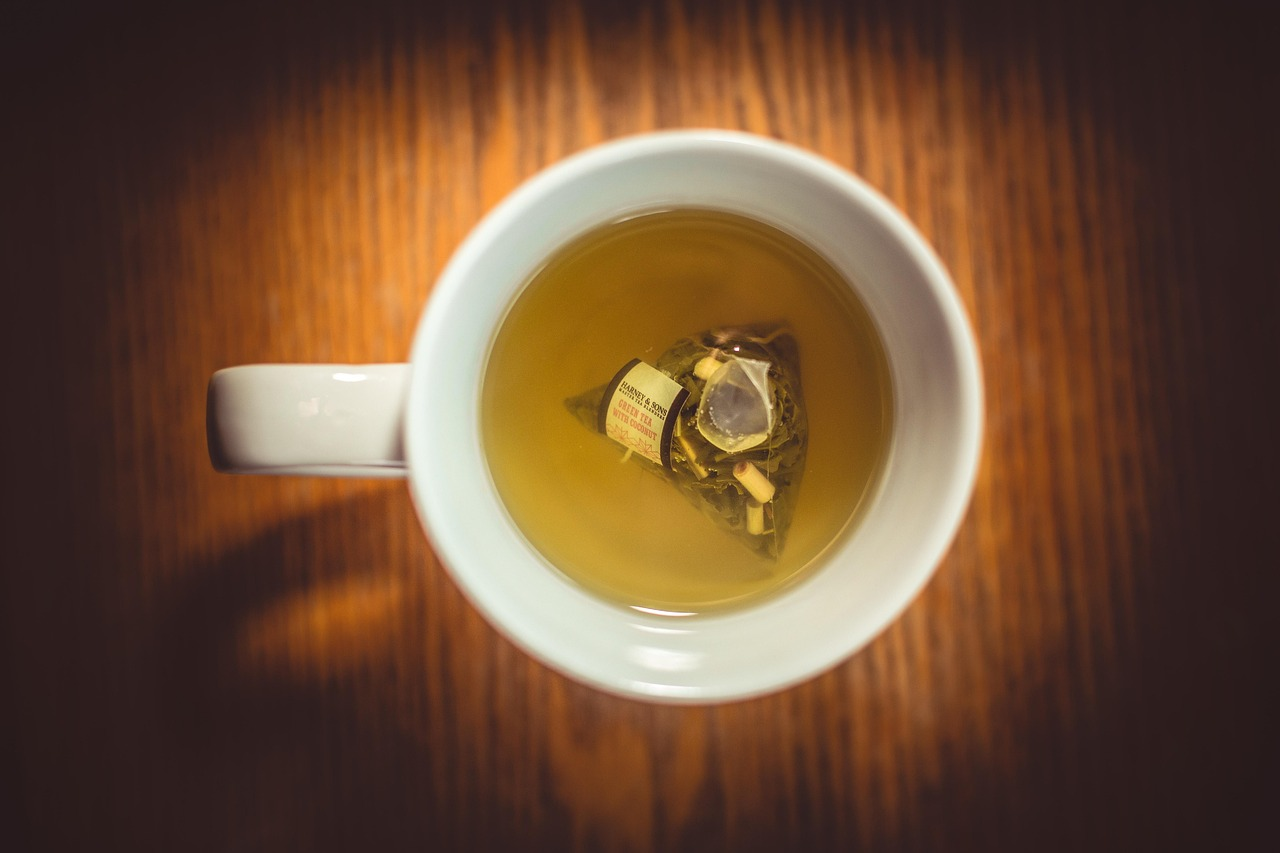mug: (191, 119, 1019, 733)
